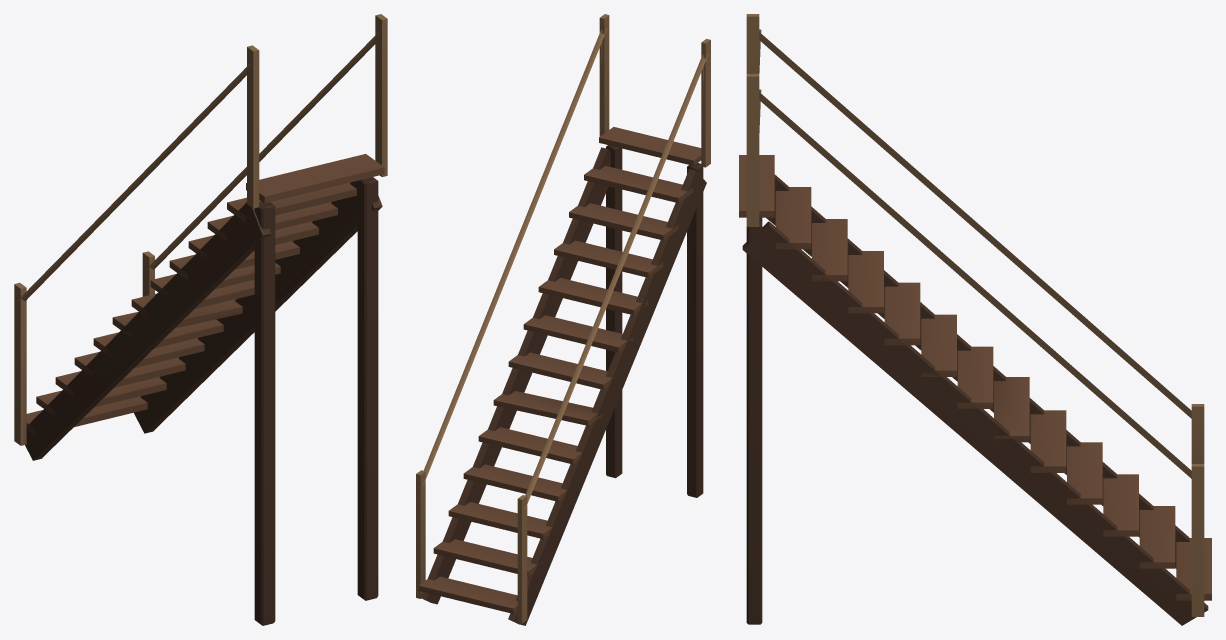
The model's file is qb_stairs_wood_lod1.glb.
The picture shows the model from 3 angles, left to right: view 1: azimuth 30°, elevation 25°; view 2: azimuth 150°, elevation 25°; view 3: azimuth 270°, elevation 25°; orthographic projection. The views are drawn at different scales.
Parts seen in each view (by area): view 1: qb_stairs_wood; view 2: qb_stairs_wood; view 3: qb_stairs_wood.
Boxes of the visible parts, bbox=[...] form: qb_stairs_wood: bbox=[14, 14, 387, 625]; qb_stairs_wood: bbox=[416, 14, 710, 625]; qb_stairs_wood: bbox=[739, 14, 1211, 625].
Bounding box in the file's own units: 0.944 × 3.86 × 3.
